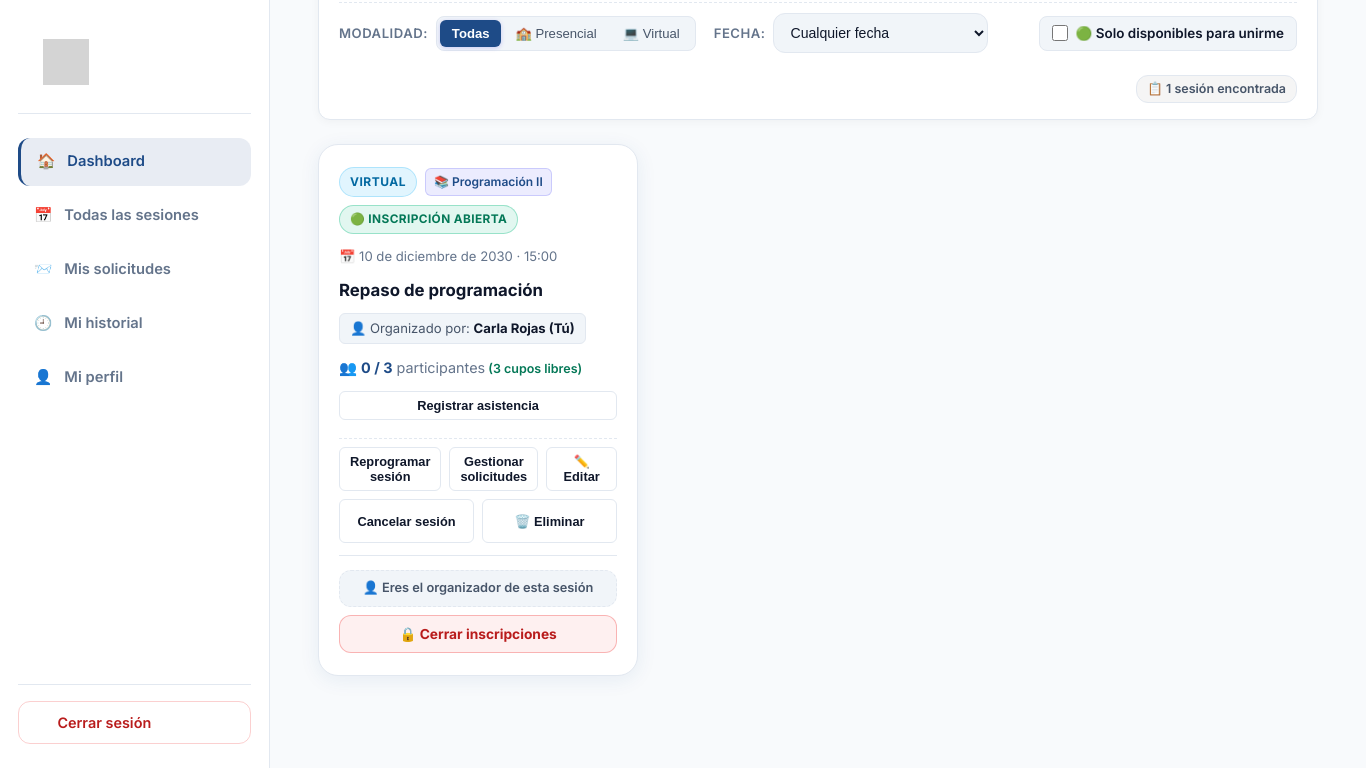
Test: el organizador cancela a través del diálogo y el listado muestra la información actualizada
This screenshot has width=1366, height=768.
(page scrolled)
Click the button "Cancelar sesión". click: x=406, y=521
box: [339, 499, 474, 543]
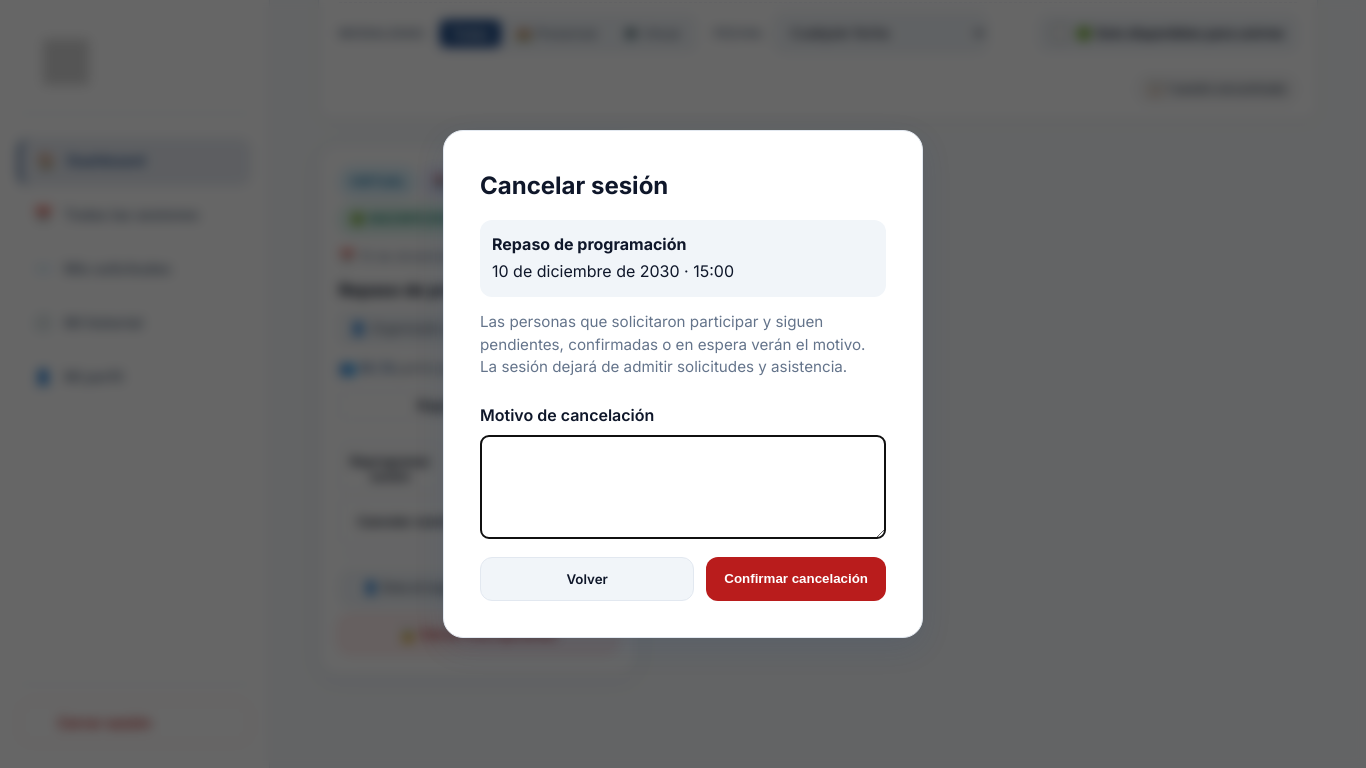
Click the button "Volver". click: x=587, y=579
box: [480, 557, 694, 601]
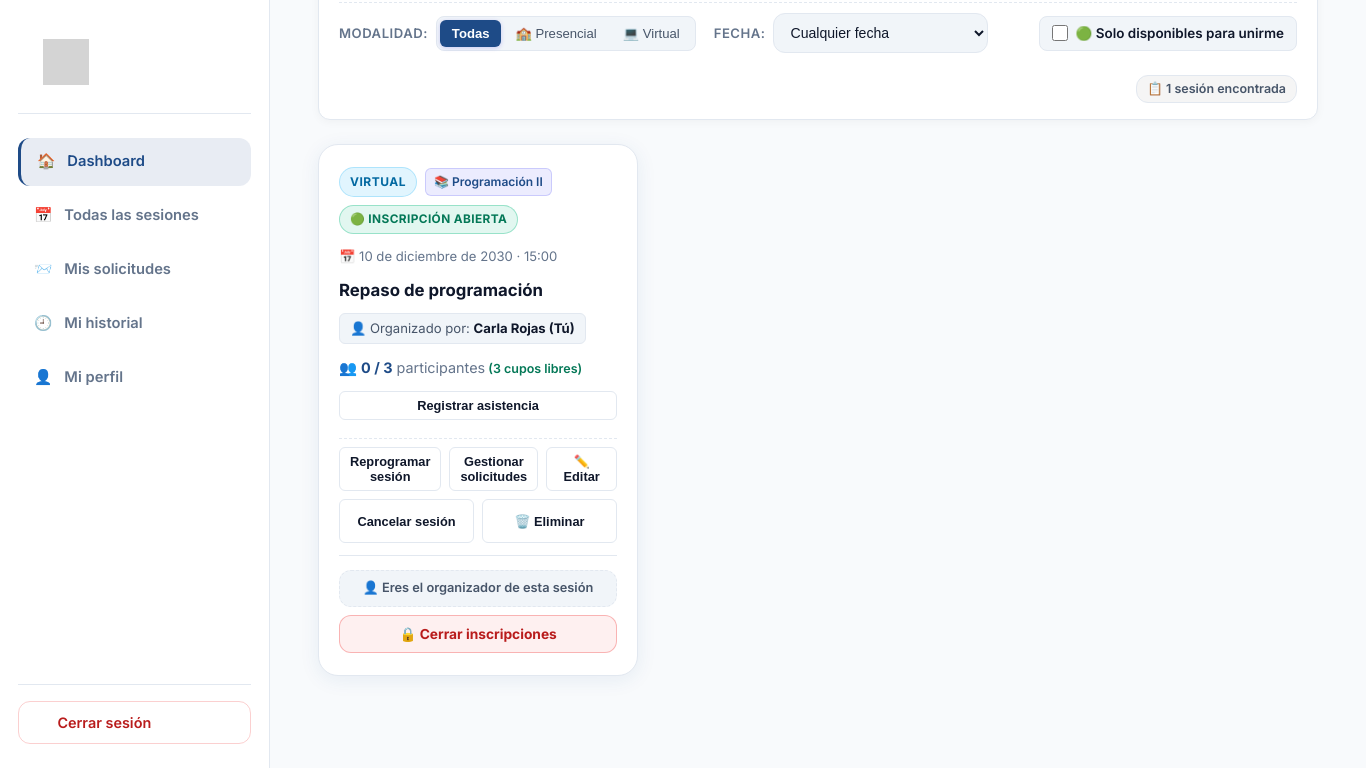
Result: the dialog is gone
Click the button "Cancelar sesión". click: x=406, y=521
box: [339, 499, 474, 543]
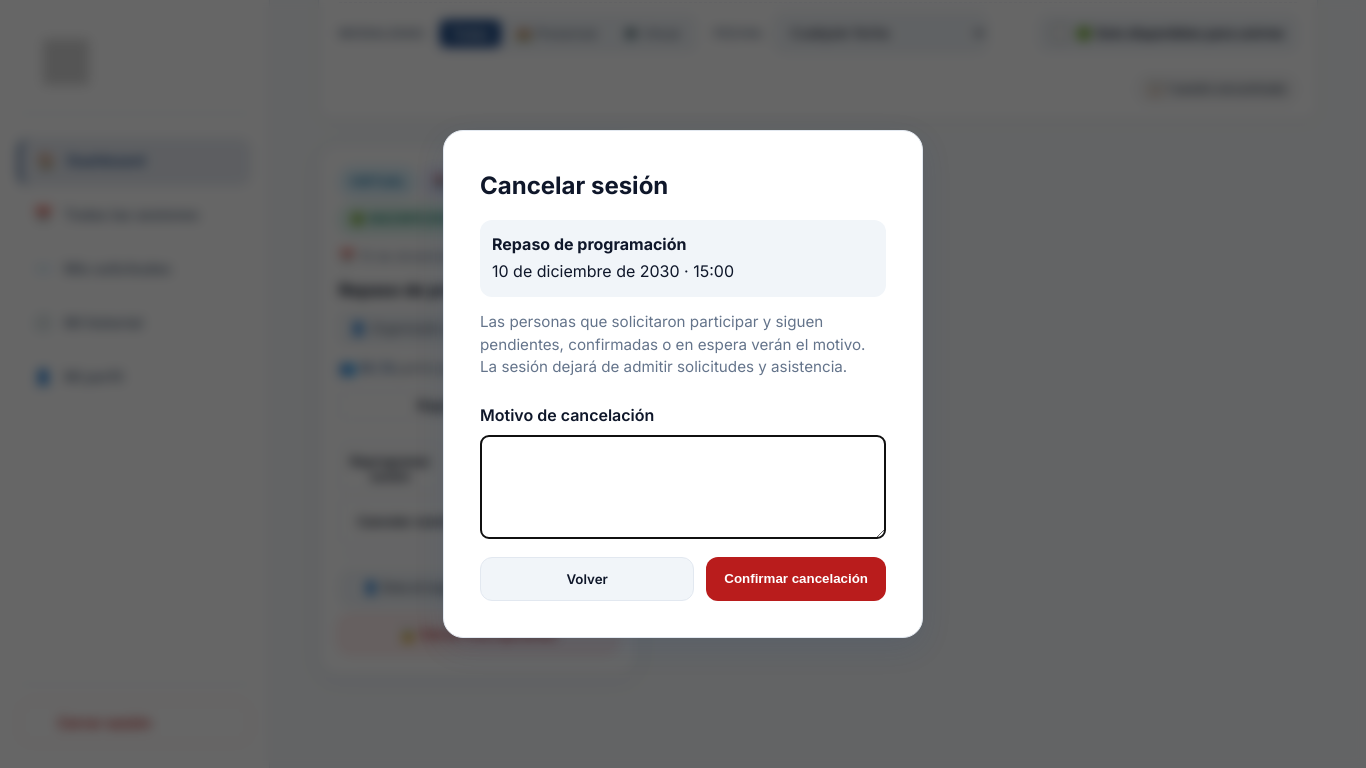
Type "Aula cerrada" into the text box labelled "Motivo de cancelación". click: x=683, y=487
box: [480, 435, 886, 539]
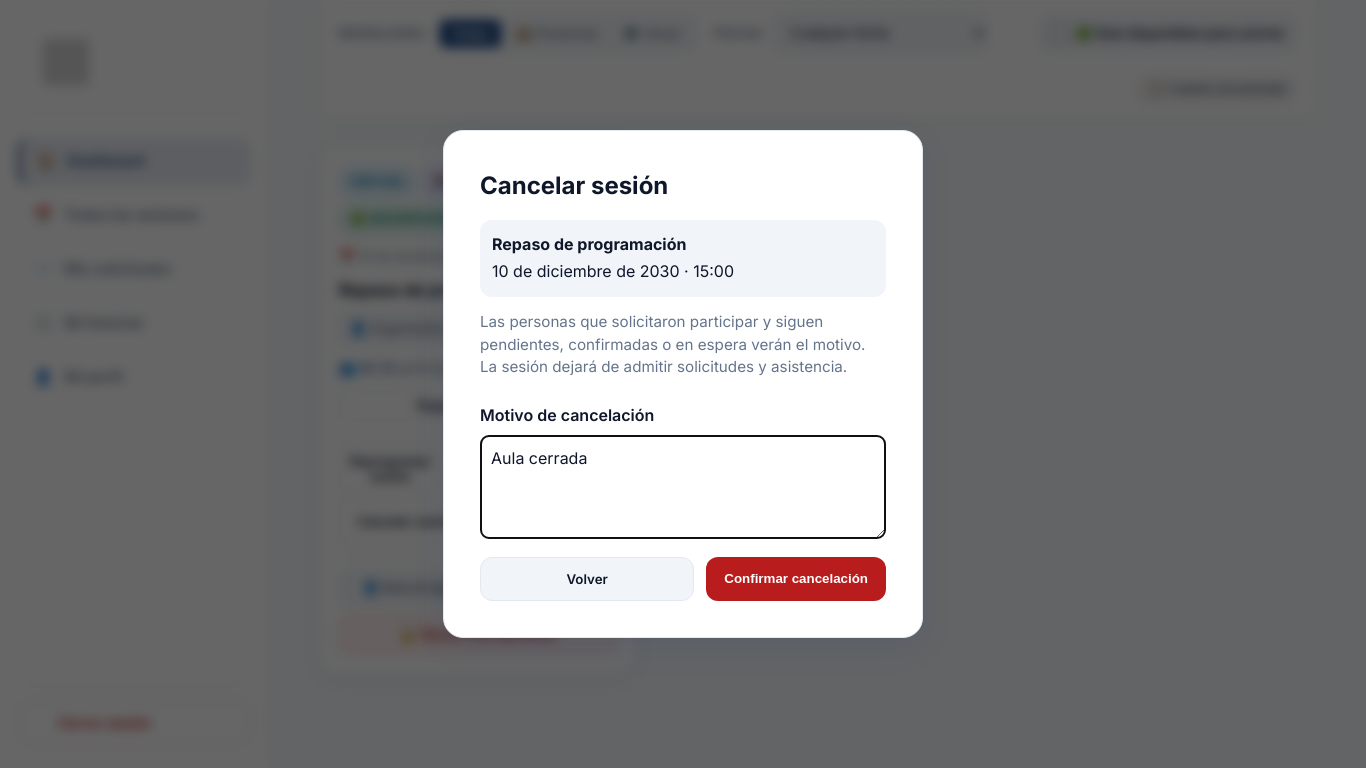
Click the button "Confirmar cancelación". click: x=796, y=579
box: [706, 557, 886, 601]
(page scrolled)
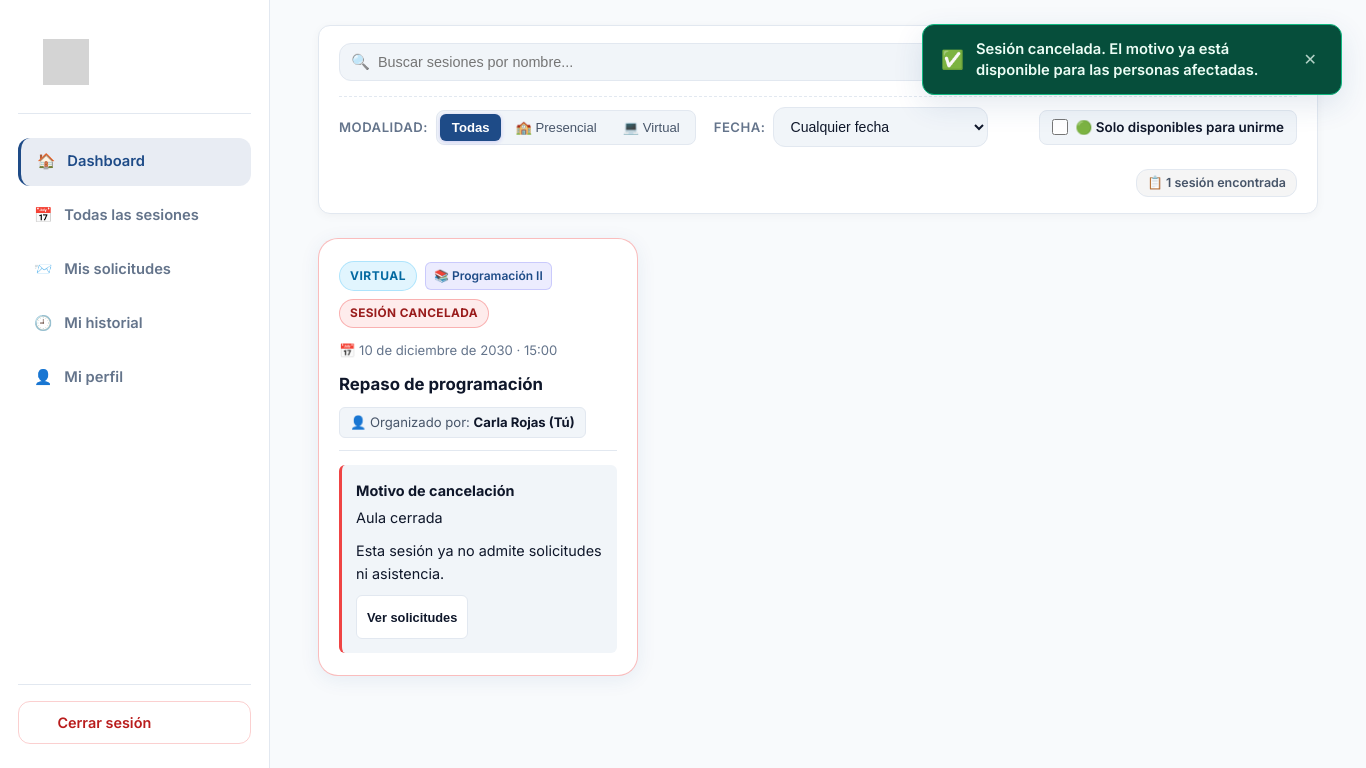
Result: the text "Aula cerrada" is shown at [356, 509, 443, 526]
Result: the dialog is gone
